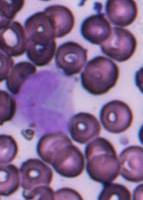M: (12, 67, 76, 135)
